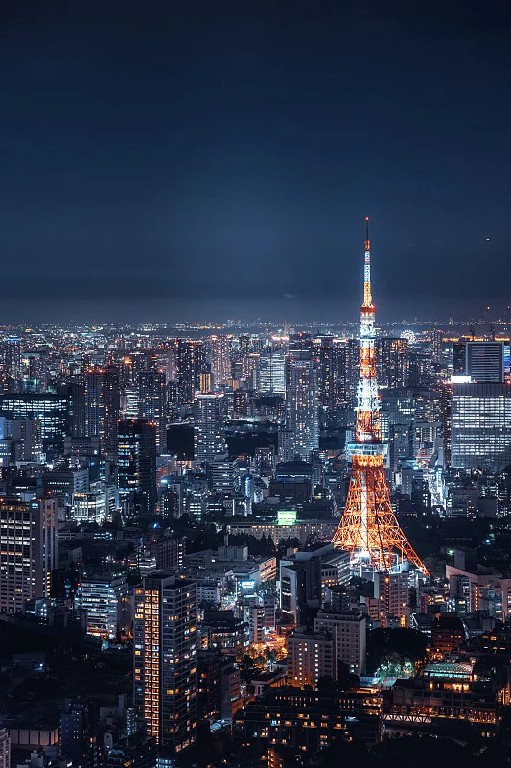Tokyo: (331, 209, 432, 580)
